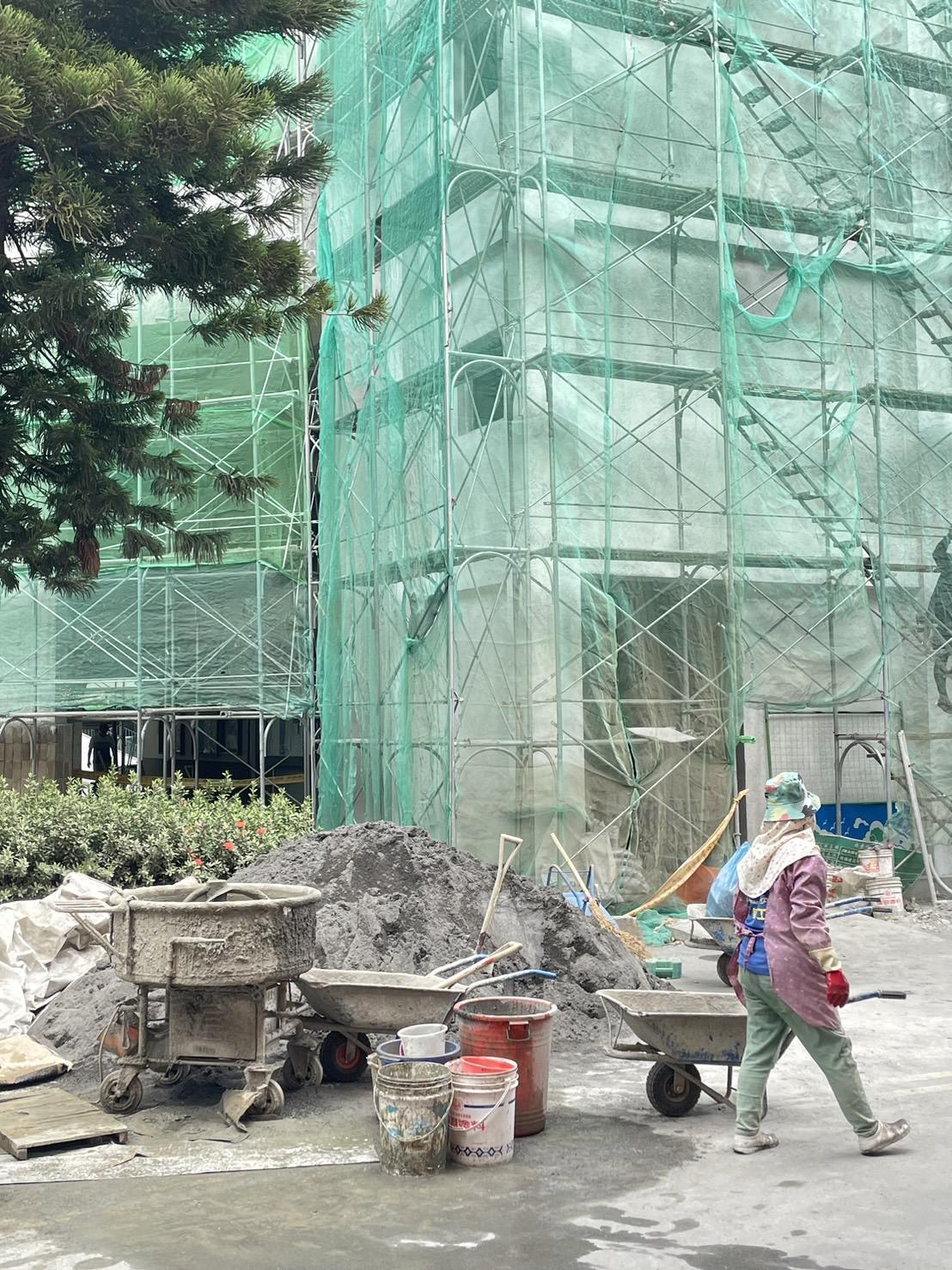NoHelmet: (760, 771, 820, 834)
NoVest: (729, 839, 823, 984)
